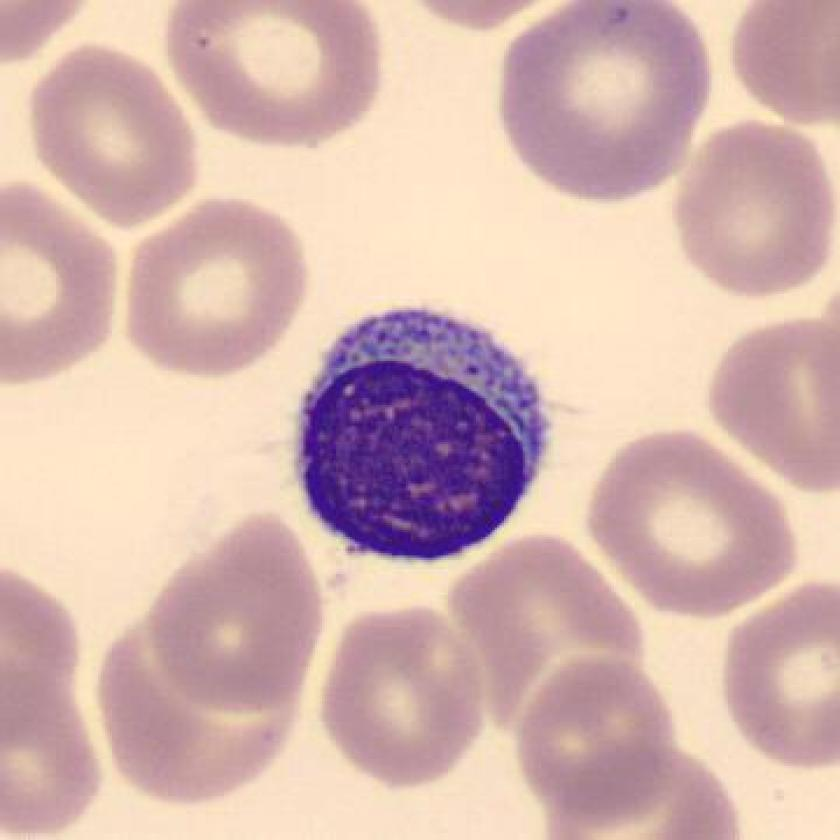lymphocyte: (279, 290, 566, 582)
